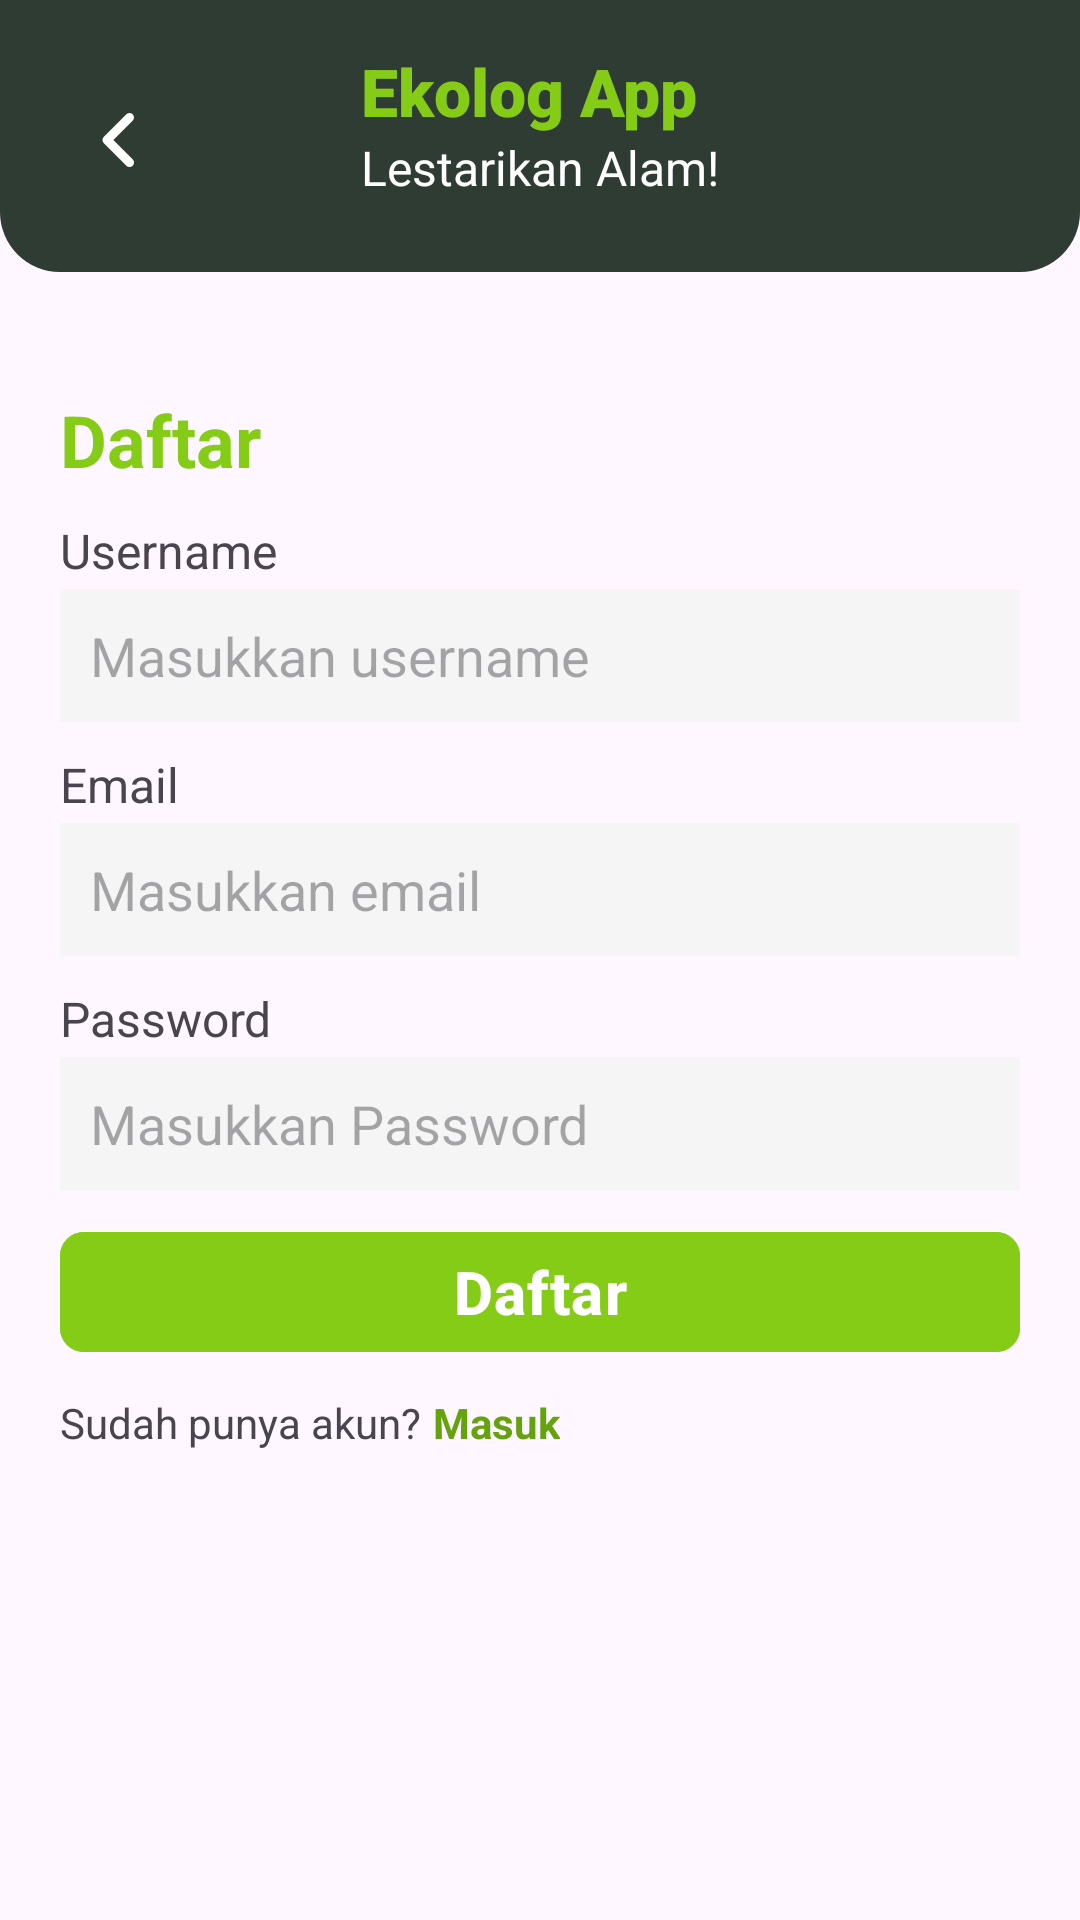

Where to tap for icons on this 1080×1920 app screen, as (x=x, y=y):
left: (x=118, y=140)
